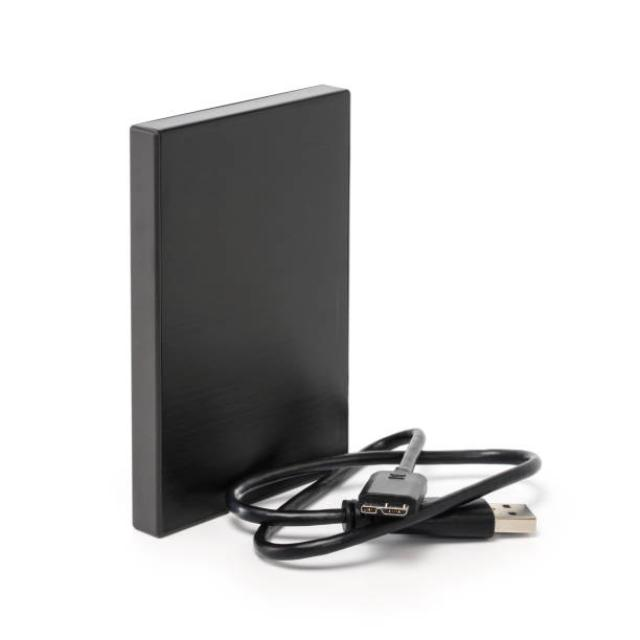HDD: (128, 85, 353, 540)
